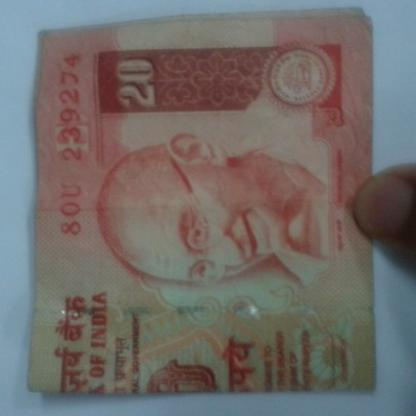Old20Front: (38, 32, 371, 393)
